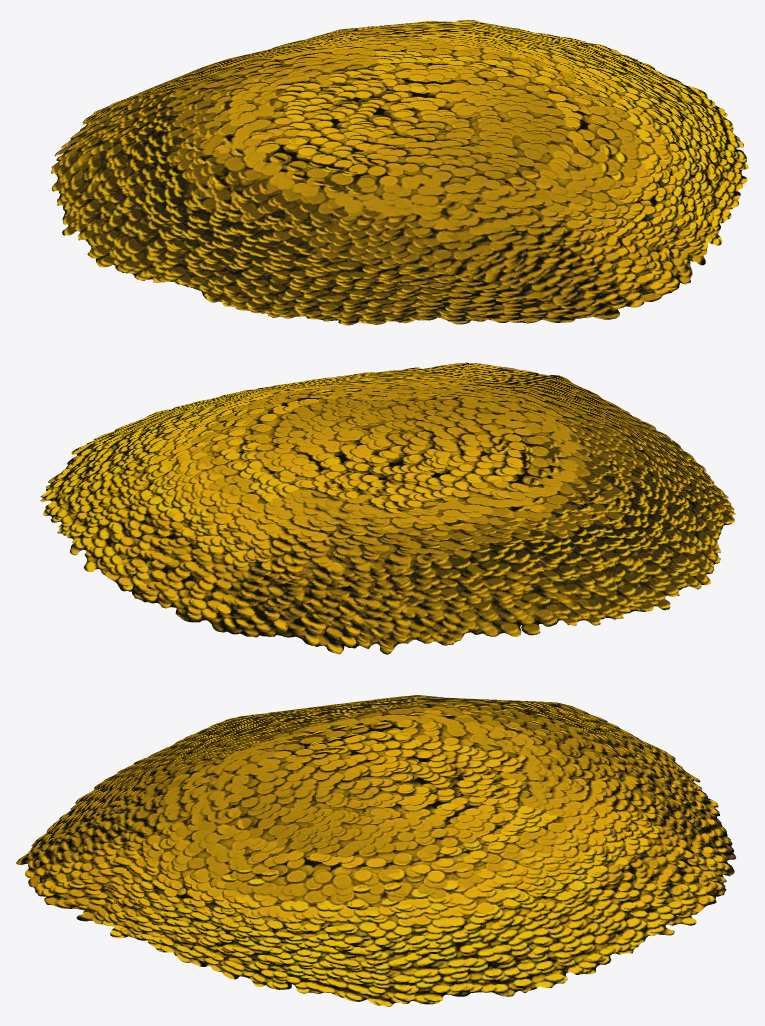
File: INST_SM_GOLDPILE_SMALLB.fbx
3 views of the same model, one above another, from view 1: azimuth 30°, elevation 25°; view 2: azimuth 150°, elevation 25°; view 3: azimuth 270°, elevation 25° (orthographic). The views are drawn at different scales.
Parts seen in each view (by area): view 1: INST_SM_GOLDPILE_SMALLB; view 2: INST_SM_GOLDPILE_SMALLB; view 3: INST_SM_GOLDPILE_SMALLB.
Boxes of the visible parts, x1,y1,x2,y2 form: INST_SM_GOLDPILE_SMALLB: [51, 20, 748, 325]; INST_SM_GOLDPILE_SMALLB: [40, 362, 735, 654]; INST_SM_GOLDPILE_SMALLB: [16, 695, 736, 1006].
Bounding box in the file's own units: 67500 × 6570 × 66250.
Materials: 1 (1 with a texture image).
